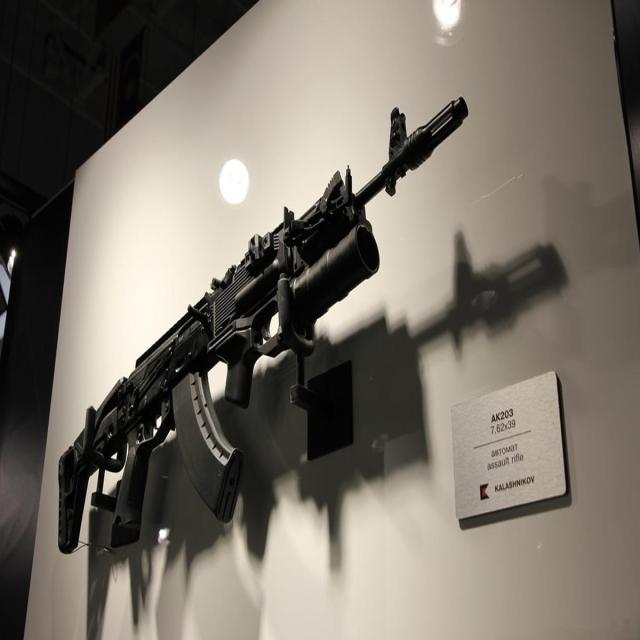Weapon: (54, 78, 478, 636)
